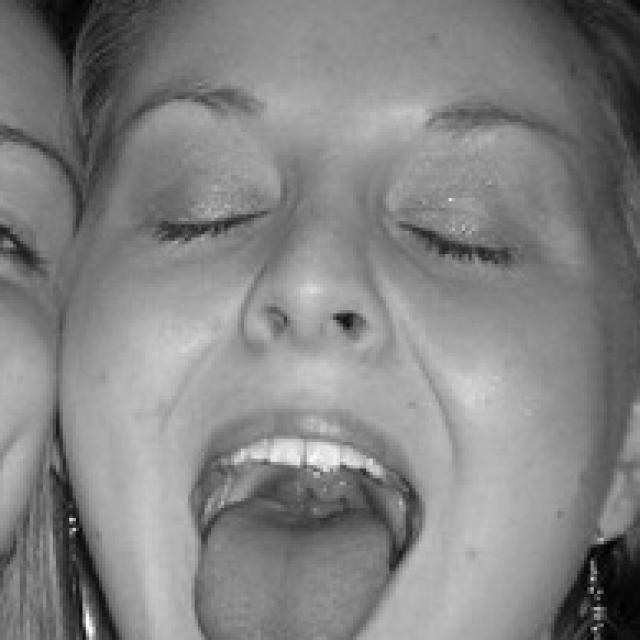real: (115, 14, 608, 582), (135, 174, 574, 290)
